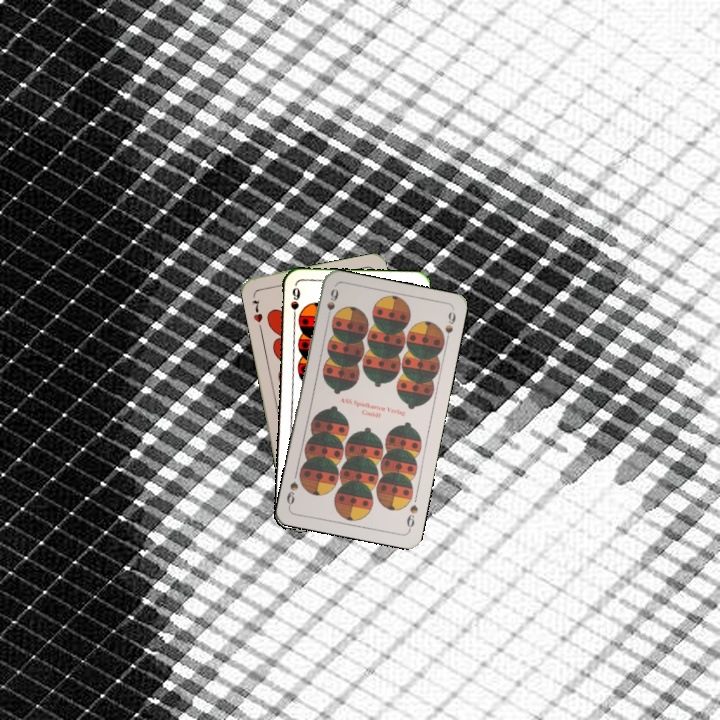H7: (248, 296, 265, 325)
S9: (322, 285, 341, 324), (286, 283, 303, 323), (402, 500, 421, 533)
